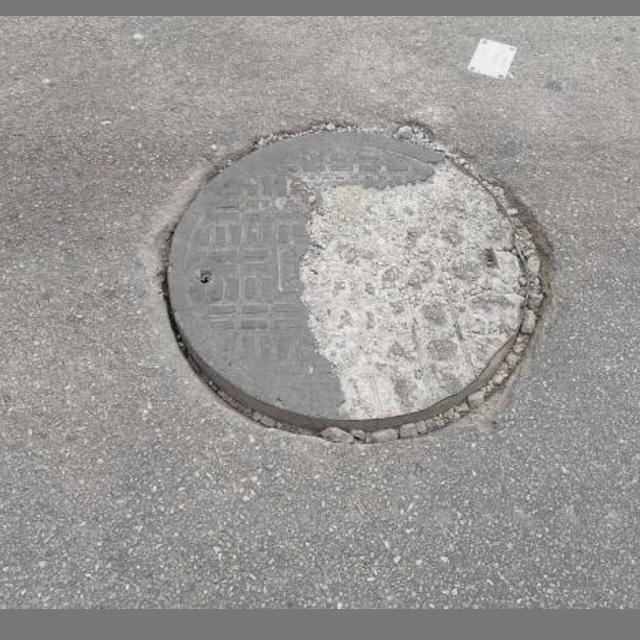circle: (143, 100, 573, 450)
